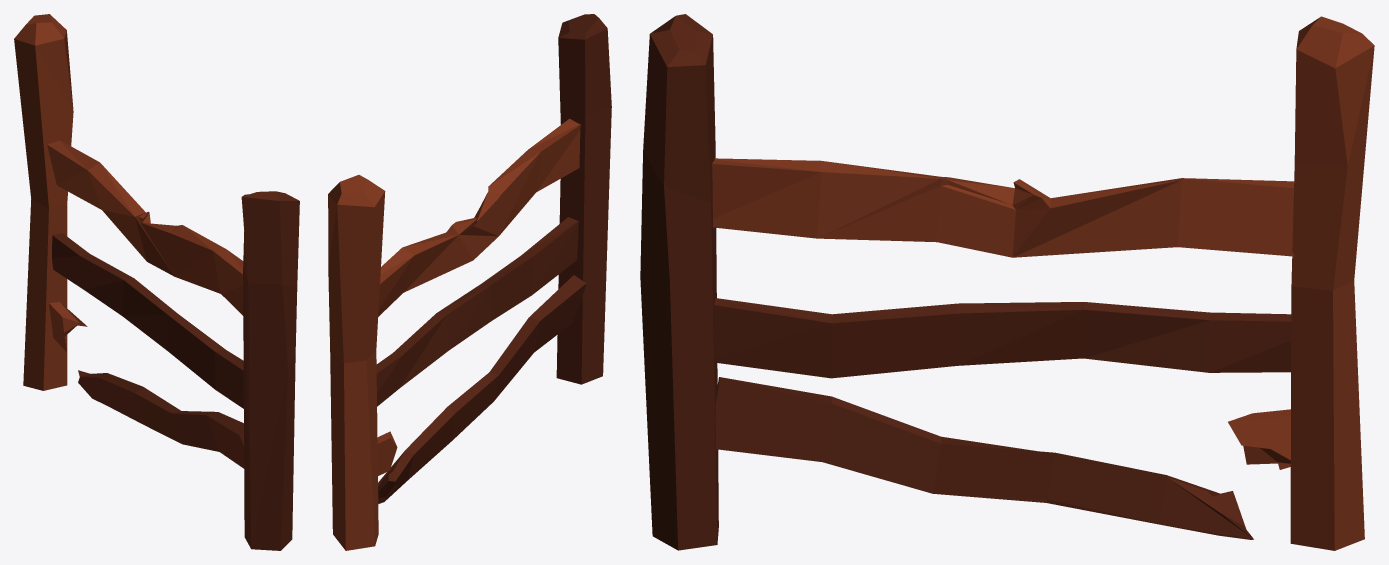
Rendered from FenceBroken_01.FBX.
3 renders of one model, left to right at view 1: azimuth 30°, elevation 25°; view 2: azimuth 150°, elevation 25°; view 3: azimuth 270°, elevation 25°, orthographic. The views are drawn at different scales.
Parts seen in each view (by area): view 1: FenceStart_002, FenceEnd_002, Fence_004, Fence_005, Fence_006, Fence_014; view 2: FenceEnd_002, FenceStart_002, Fence_004, Fence_005, Fence_006, Fence_014; view 3: Fence_004, FenceStart_002, FenceEnd_002, Fence_005, Fence_006, Fence_014.
Part boxes in pixels (x1=…): FenceStart_002: x1=241, y1=191, x2=299, y2=550; FenceEnd_002: x1=14, y1=14, x2=73, y2=390; Fence_004: x1=47, y1=140, x2=243, y2=315; Fence_005: x1=52, y1=233, x2=243, y2=408; Fence_006: x1=78, y1=370, x2=244, y2=468; Fence_014: x1=49, y1=302, x2=87, y2=351; FenceEnd_002: x1=328, y1=175, x2=385, y2=550; FenceStart_002: x1=556, y1=14, x2=611, y2=384; Fence_004: x1=378, y1=118, x2=580, y2=316; Fence_005: x1=376, y1=217, x2=578, y2=406; Fence_006: x1=378, y1=275, x2=586, y2=503; Fence_014: x1=377, y1=431, x2=397, y2=475; Fence_004: x1=712, y1=158, x2=1294, y2=257; FenceStart_002: x1=640, y1=14, x2=718, y2=550; FenceEnd_002: x1=1290, y1=16, x2=1374, y2=550; Fence_005: x1=713, y1=298, x2=1291, y2=378; Fence_006: x1=715, y1=377, x2=1253, y2=539; Fence_014: x1=1228, y1=409, x2=1290, y2=469.
Bounding box in the file's own units: 1.37 × 8.98 × 11.55.
